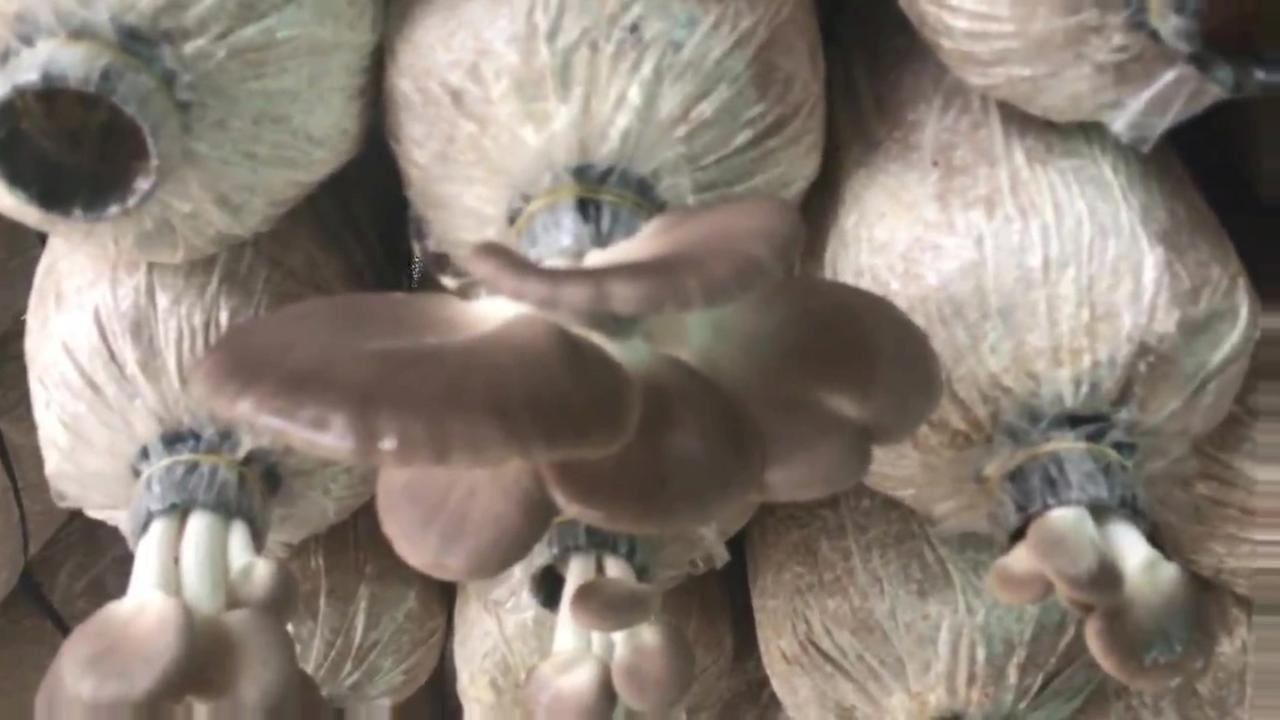nam: (191, 177, 946, 591), (33, 435, 305, 720), (992, 416, 1223, 698), (530, 514, 698, 720)
